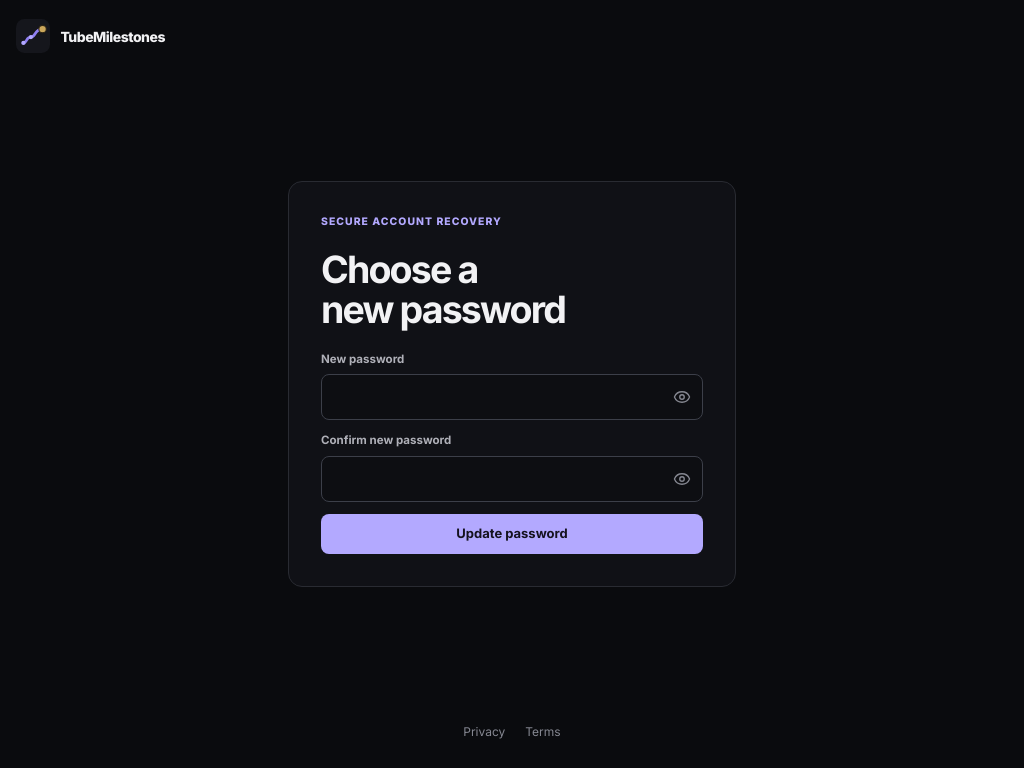
Test: PasswordRecoveryPage › rejects mismatched confirmation before updating the user
Expected: the number of buttons named "Show password" is 2, [661,376,703,418]; [661,458,703,500]
Type "password" into the password field labelled "New password". click: x=512, y=397
box: [321,374,703,420]
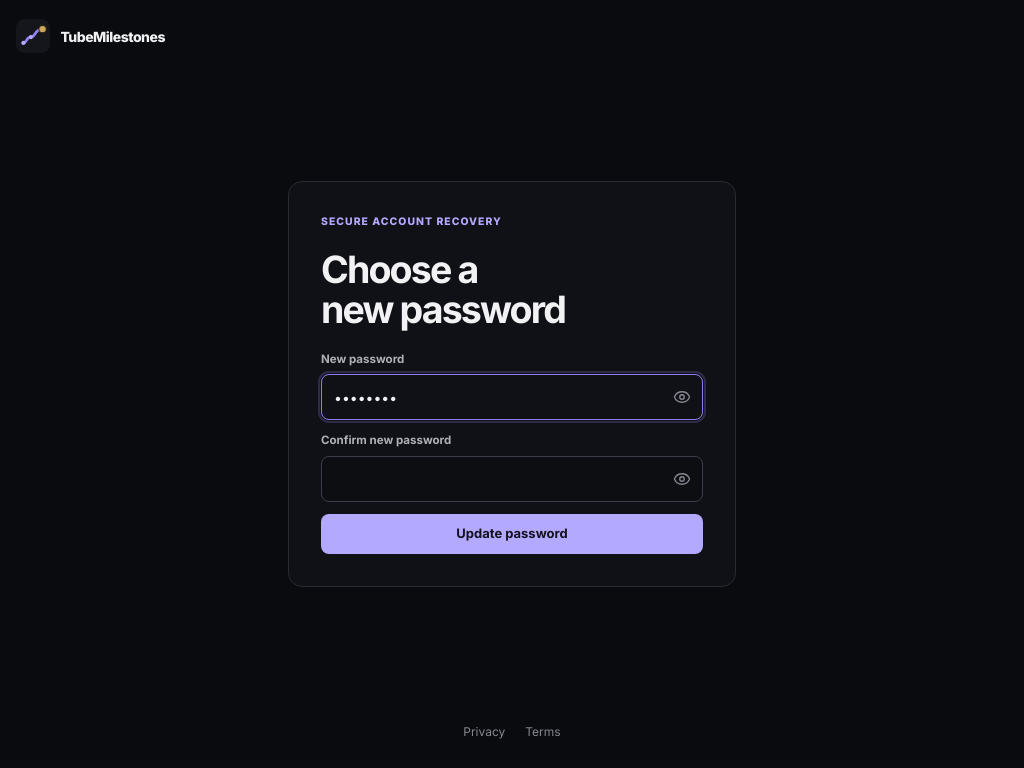
Type "different" into the password field labelled "Confirm new password". click: x=512, y=479
box: [321,456,703,502]
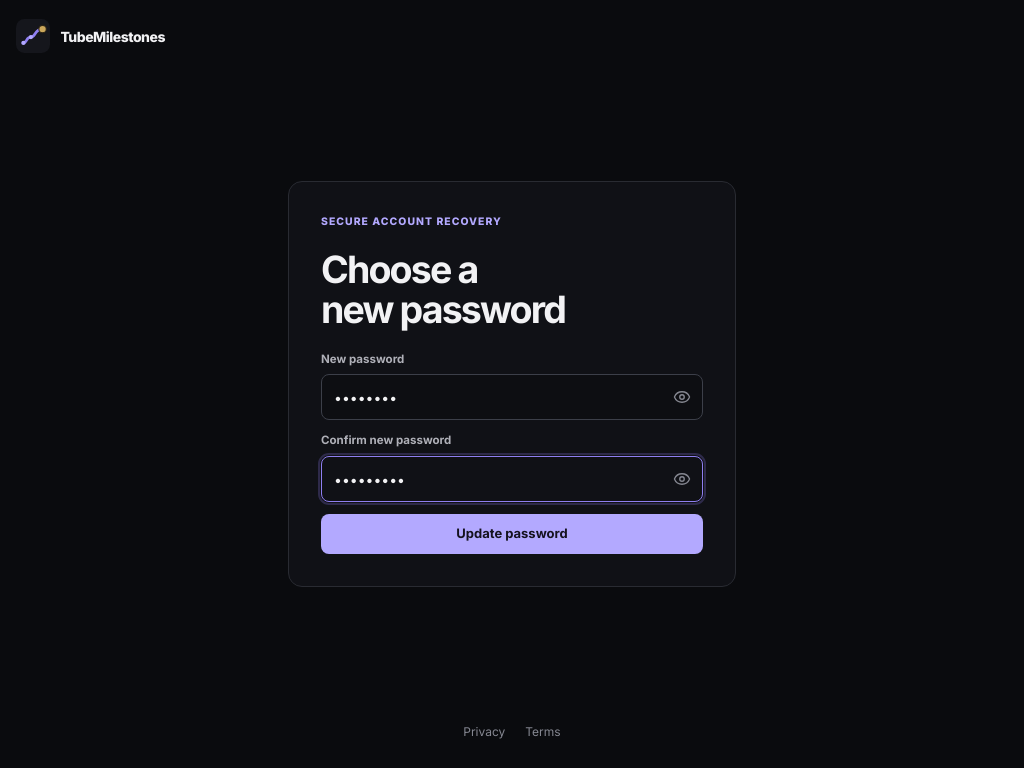
Click the button "Update password". click: x=512, y=534
box: [321,514,703,554]
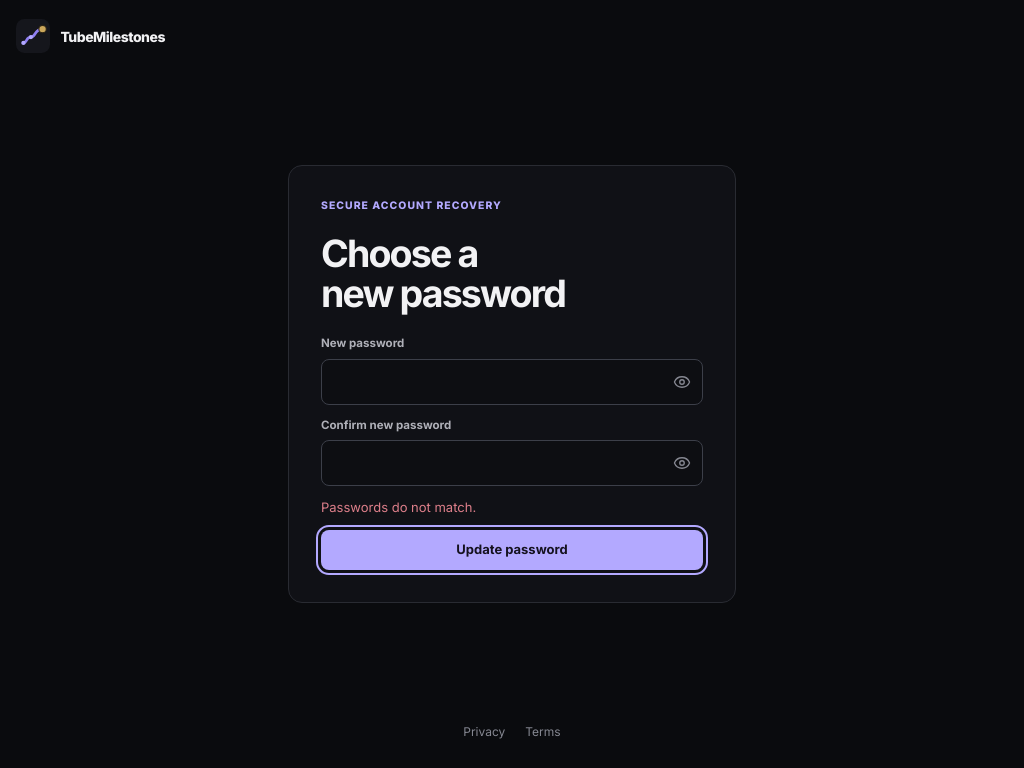
Now the message reads "Passwords do not match.", box [321,499,476,515]
